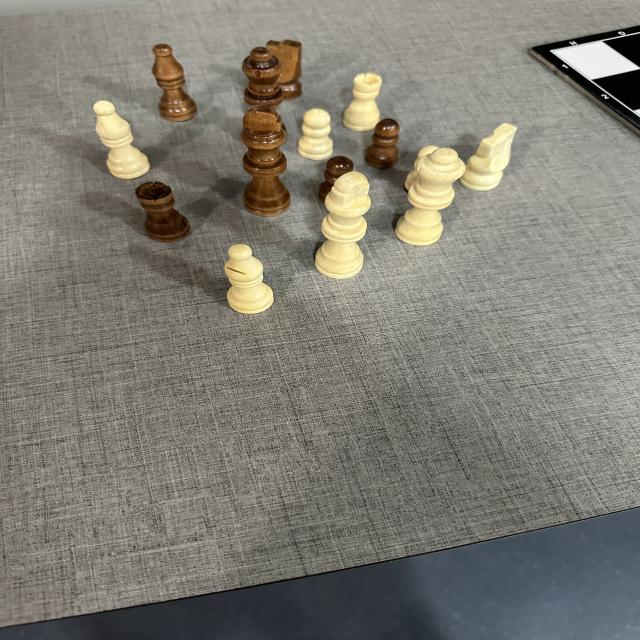Black-Bishop: (152, 43, 198, 122)
Black-King: (241, 105, 292, 216)
Black-Knight: (266, 39, 304, 101)
Black-Pawn: (364, 118, 399, 168), (322, 157, 352, 202)
Black-Queen: (243, 46, 282, 110)
Black-Rook: (136, 181, 191, 242)
White-Bishop: (93, 100, 150, 180), (224, 243, 275, 314)
White-King: (313, 171, 369, 278)
White-Knight: (459, 123, 518, 191)
White-Pawn: (298, 109, 333, 160)
White-Queen: (395, 147, 466, 245)
White-Rook: (342, 73, 382, 132)
